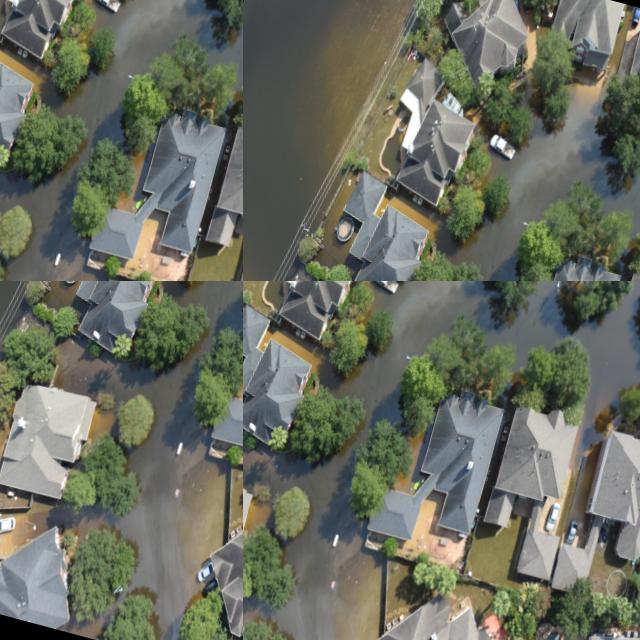fire: (0, 281, 199, 624), (278, 281, 568, 439), (270, 437, 361, 594), (572, 281, 640, 470), (316, 550, 385, 640), (282, 600, 309, 640)
